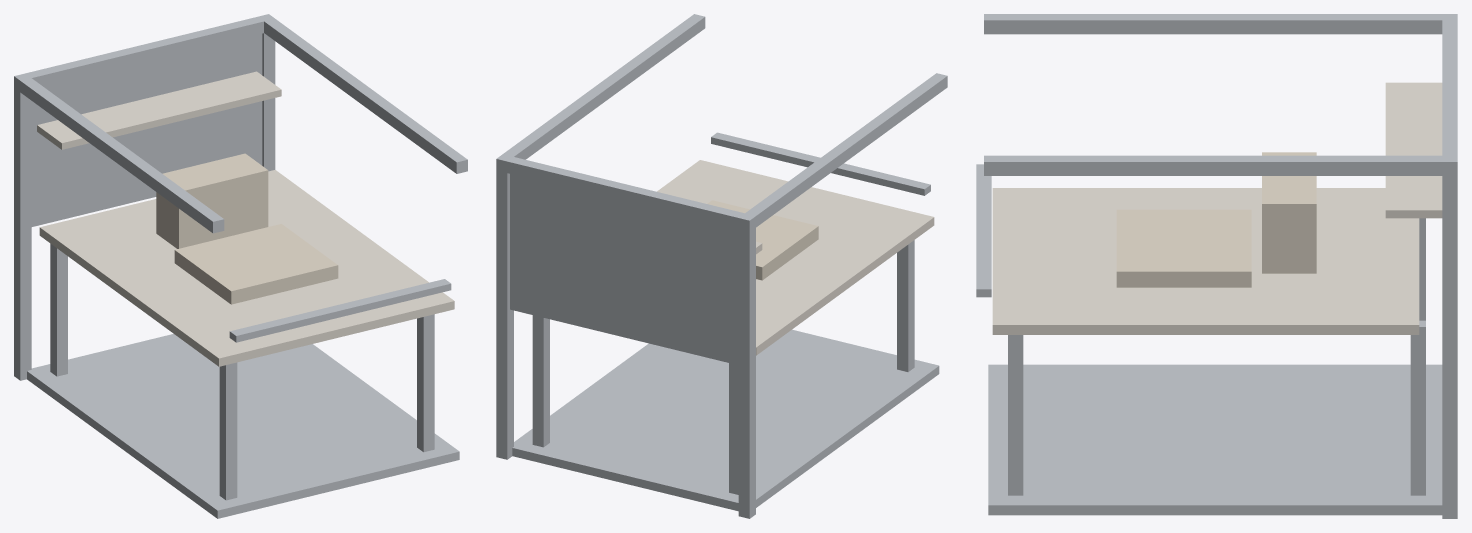
3 views of the same model, side by side, from view 1: azimuth 30°, elevation 25°; view 2: azimuth 150°, elevation 25°; view 3: azimuth 270°, elevation 25° (orthographic). The views are drawn at different scales.
Visible parts, largest first — view 1: frame, bench, workzone; view 2: frame, bench, workzone; view 3: frame, bench, workzone.
Boxes of the visible parts, box(x1,y1,x2,y2) form: frame: box(14, 14, 467, 518); bench: box(37, 71, 454, 366); workzone: box(156, 153, 338, 304); frame: box(496, 14, 947, 518); bench: box(657, 160, 934, 355); workzone: box(707, 200, 818, 280); frame: box(976, 14, 1457, 518); bench: box(992, 82, 1442, 334); workzone: box(1116, 152, 1316, 287).
Bounding box in the file's own units: 1.6 × 1.8 × 2.2.
